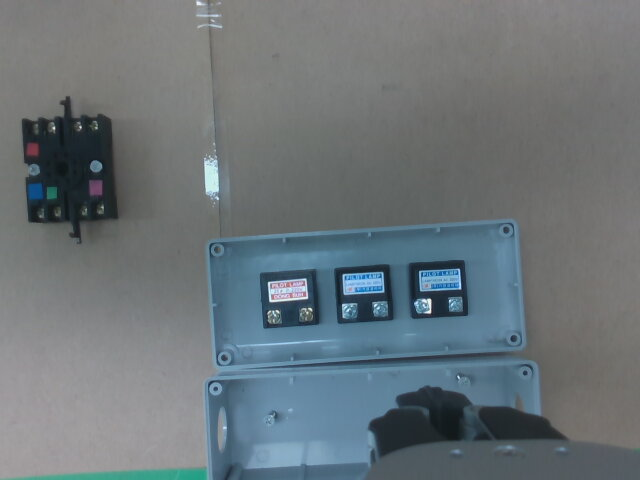L1(1): (266, 310, 281, 324)
L1(2): (299, 308, 313, 322)
L2(1): (342, 304, 357, 319)
L2(2): (372, 302, 388, 317)
L3(1): (416, 299, 431, 313)
L3(2): (448, 297, 463, 312)
